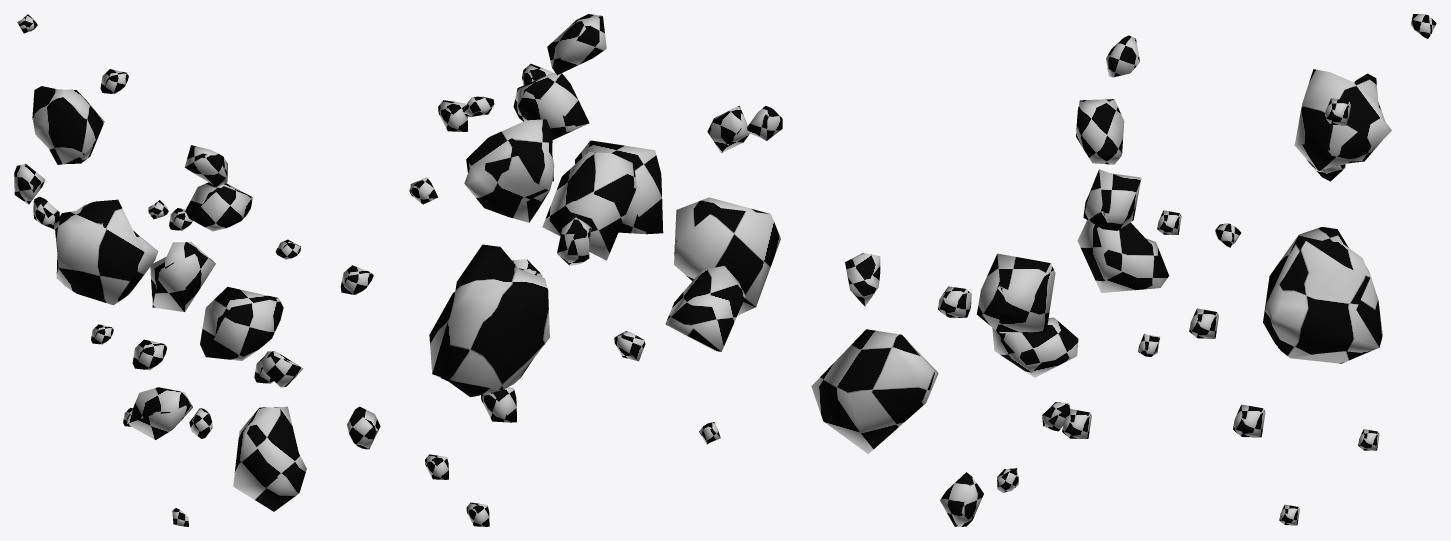
Rendered from zone_asteroid_low4.obj.
The picture shows the model from 3 angles, left to right: view 1: azimuth 30°, elevation 25°; view 2: azimuth 150°, elevation 25°; view 3: azimuth 270°, elevation 25°; orthographic projection. The views are drawn at different scales.
Visible parts, largest first — view 1: low_asteroida; view 2: low_asteroida; view 3: low_asteroida.
Part boxes in pixels (x1,y1,x2,y2): low_asteroida: (14,14,380,526); low_asteroida: (409,14,782,526); low_asteroida: (811,14,1436,526).
Size of the model in its own units: 157 by 206 by 241.
1 material, 1 textured.
